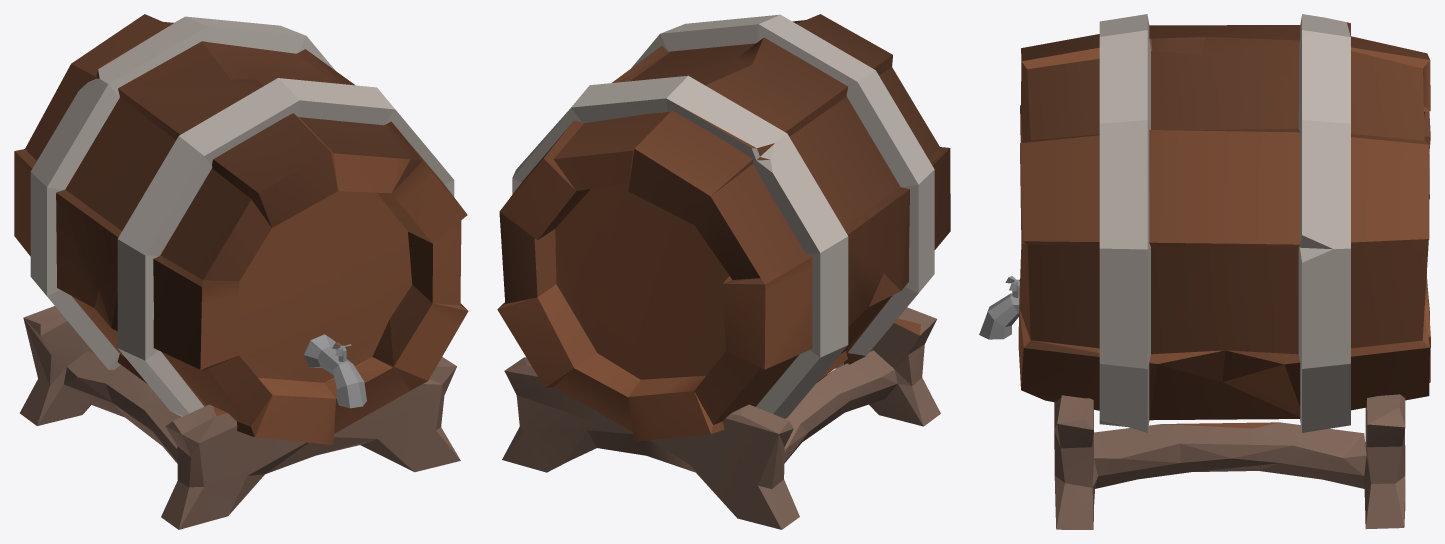
Rendered from barrel.fbx.
3 renders of one model, left to right at view 1: azimuth 30°, elevation 25°; view 2: azimuth 150°, elevation 25°; view 3: azimuth 270°, elevation 25°, orthographic. The views are drawn at different scales.
Visible parts, largest first — view 1: barrelCraneShabby; view 2: barrelCraneShabby; view 3: barrelCraneShabby.
Boxes of the visible parts, left/top/right/bottom form: barrelCraneShabby: left=14, top=14, right=468, bottom=529; barrelCraneShabby: left=497, top=14, right=950, bottom=529; barrelCraneShabby: left=979, top=14, right=1430, bottom=529.
Bounding box in the file's own units: 105 × 121 × 117.
